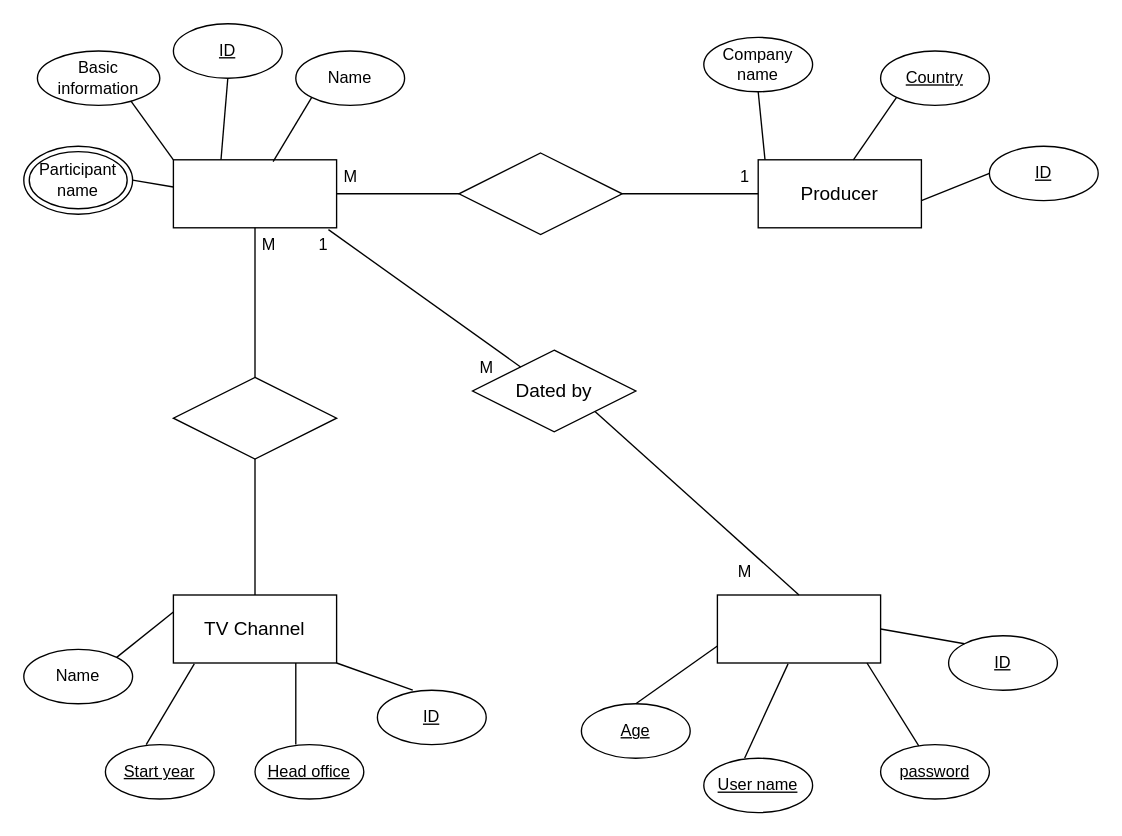
The diagram is 1122 pixels wide and 836 high, and some of its shapes have lost their labels. The shapes that lost their labels are listed below. From the top down, each one's centre as x and y in pixels, then its label:
[254,193]: Reality show
[540,193]: Produce
[254,417]: Broadcast
[798,628]: Users
